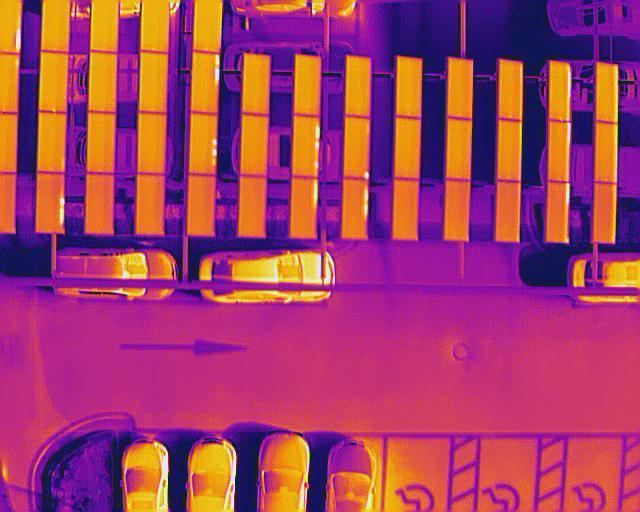Cell: (344, 117, 370, 180)
Cell-Multi: (189, 112, 217, 177), (292, 115, 319, 178)
No-Anomaly: (38, 51, 68, 114), (85, 112, 115, 173), (87, 53, 117, 114), (186, 173, 215, 236), (136, 112, 165, 174), (37, 113, 66, 174), (393, 118, 421, 181), (240, 113, 267, 178), (86, 172, 114, 234), (136, 173, 164, 235), (391, 178, 418, 241), (238, 176, 266, 236), (242, 52, 268, 116), (395, 57, 422, 118), (139, 52, 166, 113), (294, 55, 321, 116), (443, 179, 469, 242), (446, 118, 472, 180), (494, 180, 519, 243), (346, 55, 370, 120), (496, 120, 521, 182), (40, 0, 69, 52), (447, 58, 472, 118), (497, 61, 522, 120), (593, 121, 617, 182), (592, 181, 616, 242), (91, 0, 119, 52), (140, 0, 168, 51), (595, 62, 618, 123)
Unclassified: (35, 174, 65, 235), (191, 51, 220, 112), (290, 178, 317, 240), (340, 178, 367, 239), (546, 180, 570, 243), (546, 120, 570, 183), (549, 61, 571, 122)
